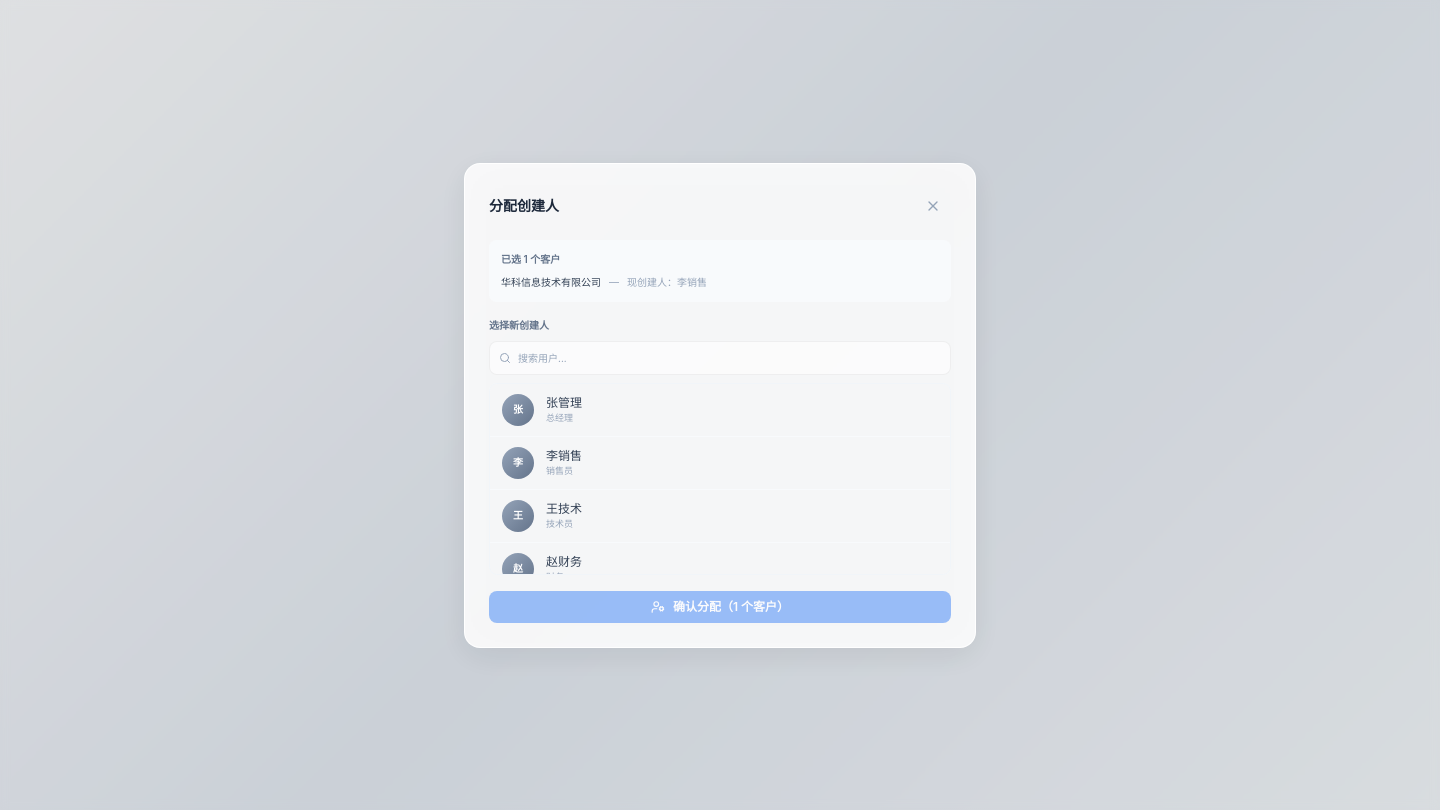
Test: ReassignModal › filters users by search query
Type "刘销售" into the field with placeholder "搜索用户..." at (720, 358), box [489, 340, 951, 374]
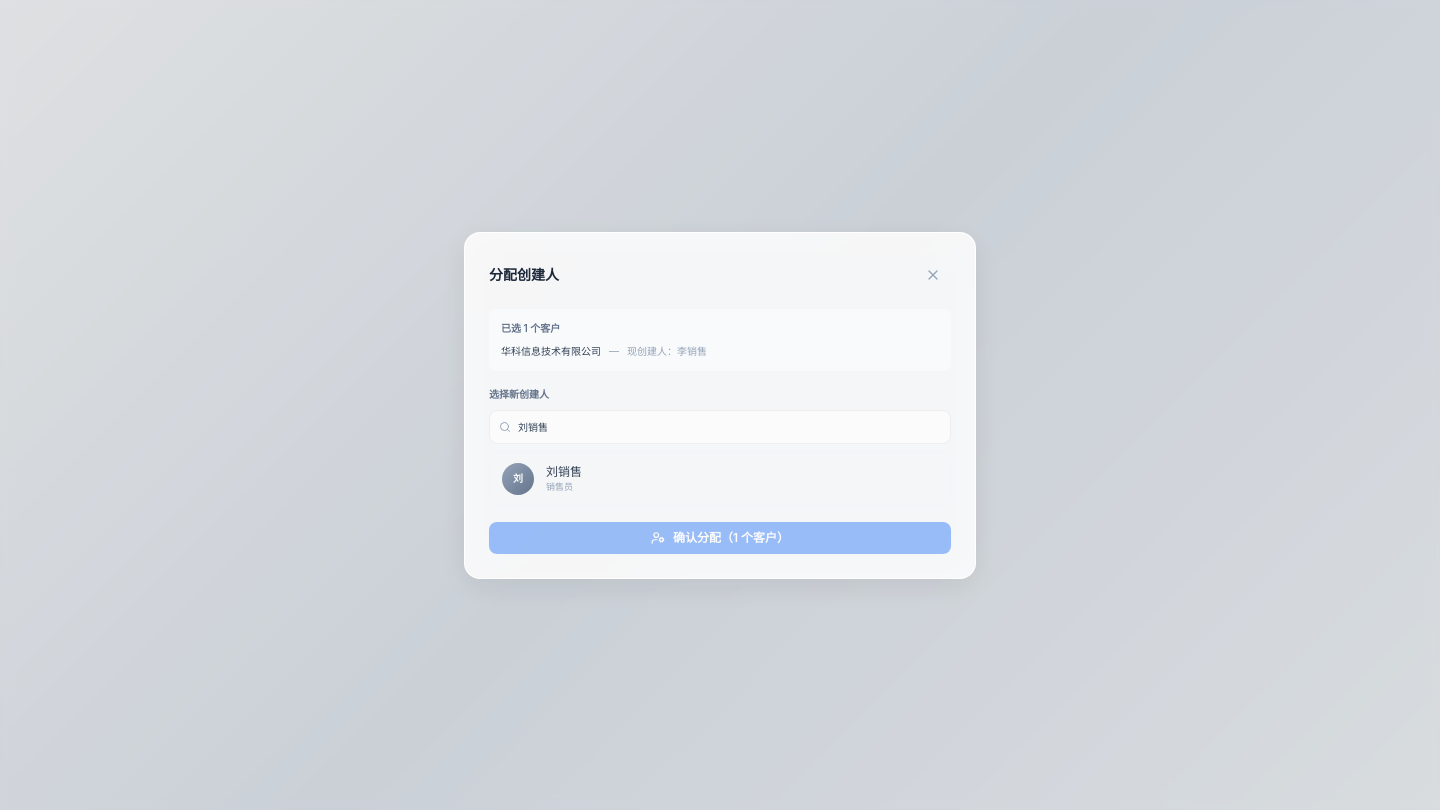
Now the text "刘销售" is shown, box [546, 464, 582, 479]
Now the button "张管理" is gone
